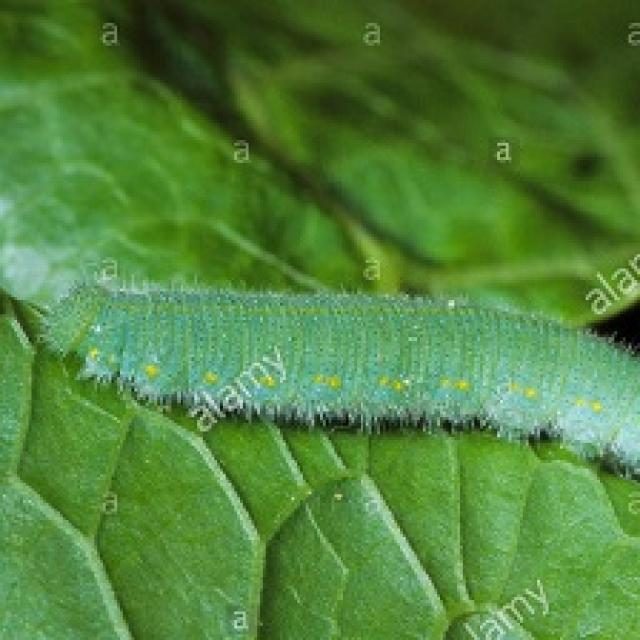Cabbage-worm: (38, 251, 640, 469)
